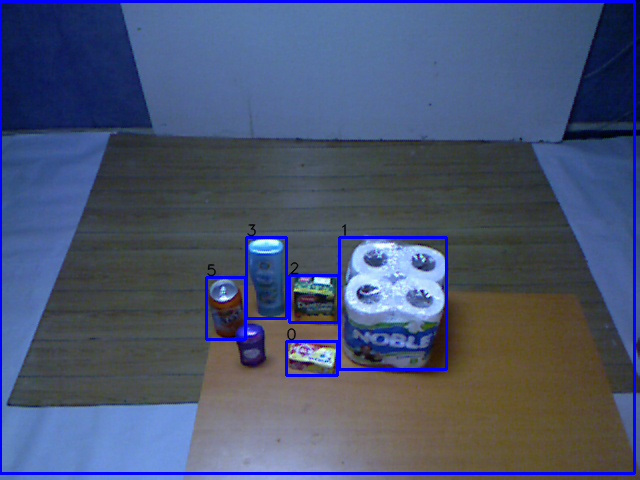balsamo: (243, 233, 291, 322)
confort: (332, 233, 456, 376)
desodorante: (231, 317, 271, 371)
durazno: (284, 267, 340, 334)
lata: (203, 272, 249, 339)
mantequilla: (283, 335, 341, 381)
